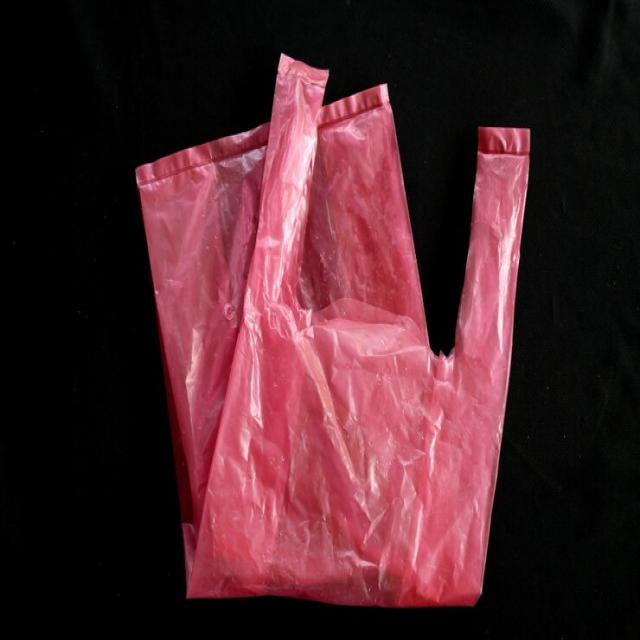plastic_bag: (144, 60, 512, 640)
